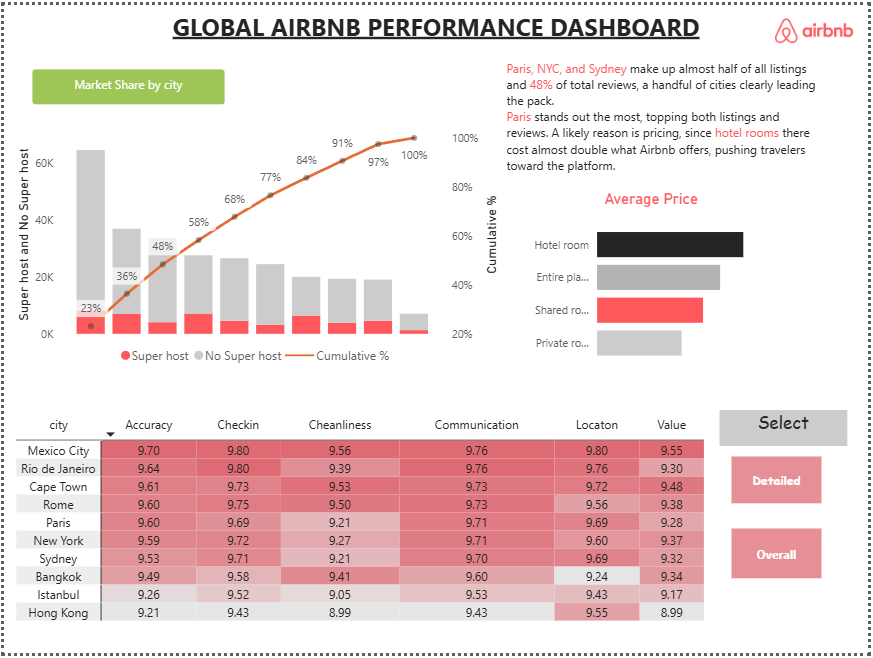

What the dashboard file says about the page in this screenshot:
{"tool":"powerbi","page":{"name":"Rating","canvas":[960,720],"ordinal":1},"visuals":[{"type":"textbox","box":[151.5,0,656.9,109.8],"z":0},{"type":"image","box":[849.4,14.3,100.2,27],"z":1000},{"type":"textbox","box":[31.7,71.7,213.3,38.3],"z":2000},{"type":"textbox","box":[114.5,281.5,135.2,36.6],"z":3000},{"type":"shape","box":[45.6,302.2,202,267.2],"z":4000},{"type":"lineStackedColumnComboChart","fields":{"Category":["Listings.city"],"Y":["Listings.Super host","Listings.No Super host"],"Y2":["Listings.Cumulative %"]},"box":[8.3,130,545,278.3],"z":5000},{"type":"barChart","title":"Average Price ","fields":{"Category":["Listings.room_type"],"Y":["Listings.Average Price"]},"box":[571.7,205,295,205],"z":6000},{"type":"textbox","box":[553.3,55,361.7,150],"z":7000},{"type":"pivotTable","fields":{"Rows":["Listings.city"],"Values":["Listings.Accuracy","Listings.Checkin","Listings.Cheanliness","Listings.Communication","Listings.Locaton","Listings.Value"]},"box":[8.3,450,776.7,263.3],"z":9000},{"type":"actionButton","box":[808.3,501.7,100,51.7],"z":10000},{"type":"actionButton","box":[808.3,581.7,100,55],"z":11000},{"type":"textbox","box":[795,450,141.7,40],"z":12000}]}

Visuals, with their boxes in screenshot pixels (x1, y1, x2, y2), scaled from the page's 960x720 canvas onto the 873x658 screenshot:
textbox: pyautogui.locateOnScreen(138, 0, 735, 100)
image: pyautogui.locateOnScreen(772, 13, 864, 38)
textbox: pyautogui.locateOnScreen(29, 66, 223, 101)
textbox: pyautogui.locateOnScreen(104, 257, 227, 291)
shape: pyautogui.locateOnScreen(41, 276, 225, 520)
lineStackedColumnComboChart - Listings.city x Listings.Super host: pyautogui.locateOnScreen(8, 119, 503, 373)
"Average Price " barChart: pyautogui.locateOnScreen(520, 187, 788, 375)
textbox: pyautogui.locateOnScreen(503, 50, 832, 187)
pivotTable - Listings.city x Listings.Accuracy: pyautogui.locateOnScreen(8, 411, 714, 652)
actionButton: pyautogui.locateOnScreen(735, 458, 826, 506)
actionButton: pyautogui.locateOnScreen(735, 532, 826, 582)
textbox: pyautogui.locateOnScreen(723, 411, 852, 448)
